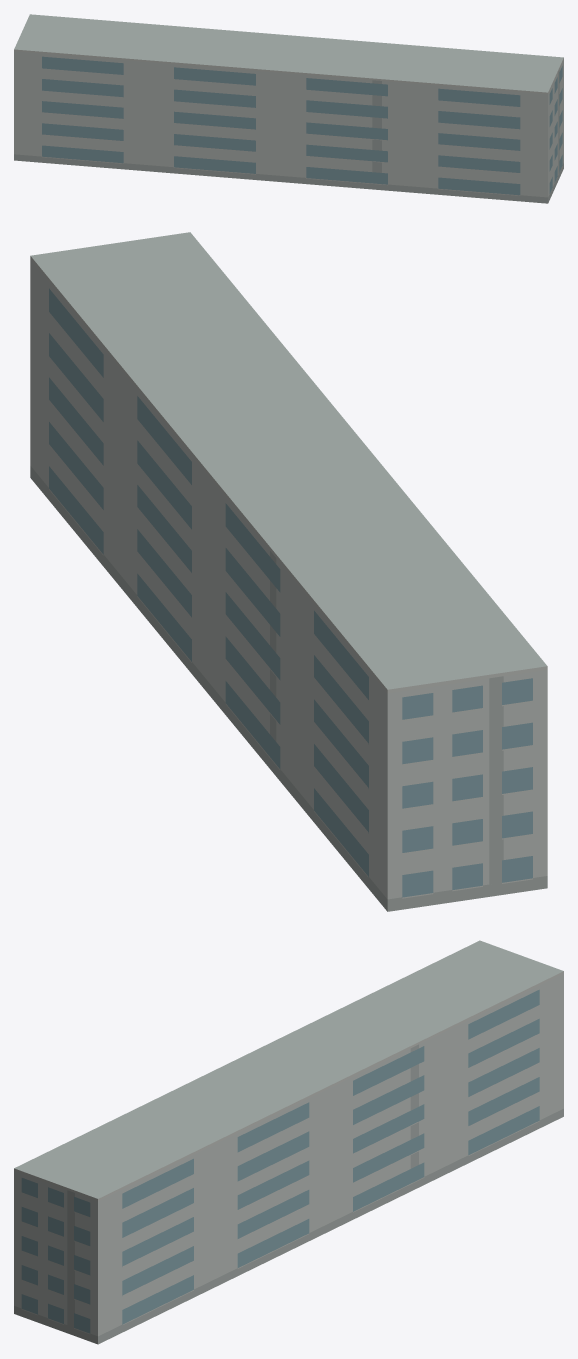
Rendered from residential-9d5b2e66-187f-4cd3-bf48-89fad560bc4e.glb.
The picture shows the model from 3 angles, top to bottom: view 1: azimuth 30°, elevation 25°; view 2: azimuth 150°, elevation 25°; view 3: azimuth 270°, elevation 25°; orthographic projection. The views are drawn at different scales.
Visible parts, largest first — view 1: residential-9d5b2e66-187f-4cd3-bf48-89fad560bc4e.tmp; view 2: residential-9d5b2e66-187f-4cd3-bf48-89fad560bc4e.tmp; view 3: residential-9d5b2e66-187f-4cd3-bf48-89fad560bc4e.tmp.
Boxes of the visible parts, bbox=[...] form: residential-9d5b2e66-187f-4cd3-bf48-89fad560bc4e.tmp: bbox=[14, 14, 563, 203]; residential-9d5b2e66-187f-4cd3-bf48-89fad560bc4e.tmp: bbox=[30, 232, 547, 911]; residential-9d5b2e66-187f-4cd3-bf48-89fad560bc4e.tmp: bbox=[14, 940, 563, 1344].
Bounding box in the file's own units: 58.1 × 15.25 × 52.23.
